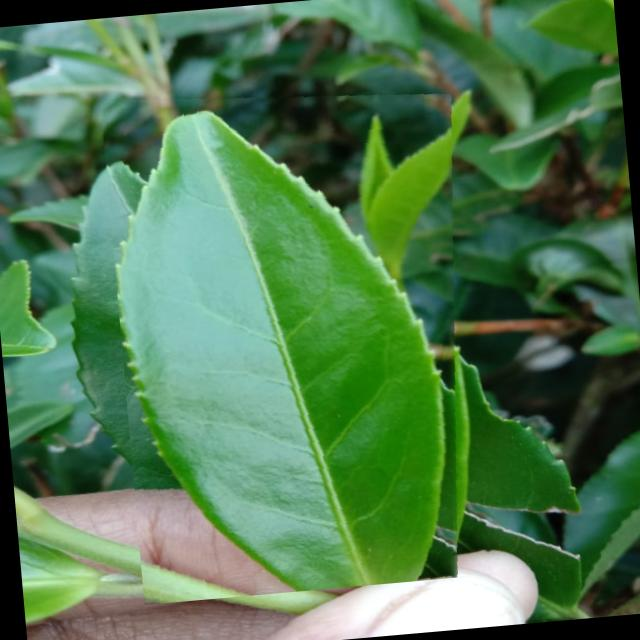Category C(4-7 days): (100, 70, 493, 604)
